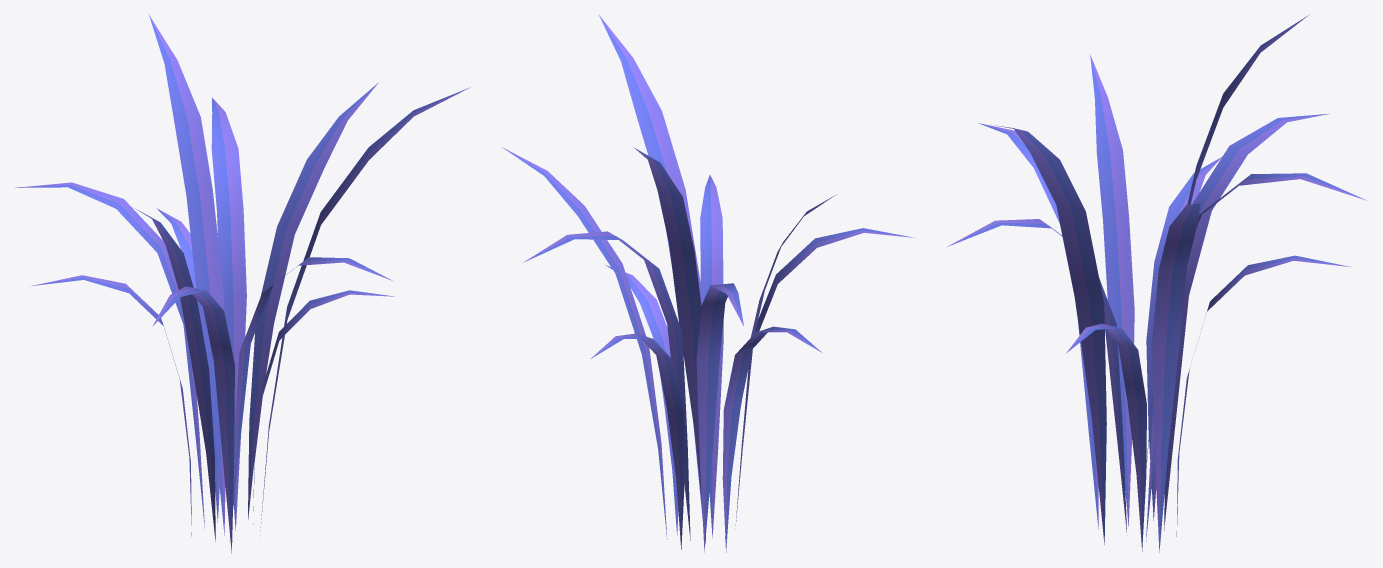
The model's file is grass_generic_clump_large-tall.fbx.
The picture shows the model from 3 angles, left to right: view 1: azimuth 30°, elevation 25°; view 2: azimuth 150°, elevation 25°; view 3: azimuth 270°, elevation 25°; orthographic projection. The views are drawn at different scales.
Parts seen in each view (by area): view 1: grass_generic_clump_large_tall; view 2: grass_generic_clump_large_tall; view 3: grass_generic_clump_large_tall.
Part boxes in pixels (box(x1,y1,x2,y2)): grass_generic_clump_large_tall: box(15, 15, 470, 553); grass_generic_clump_large_tall: box(502, 14, 914, 552); grass_generic_clump_large_tall: box(947, 14, 1366, 552).
Bounding box in the file's own units: 95.36 × 124 × 91.2.
